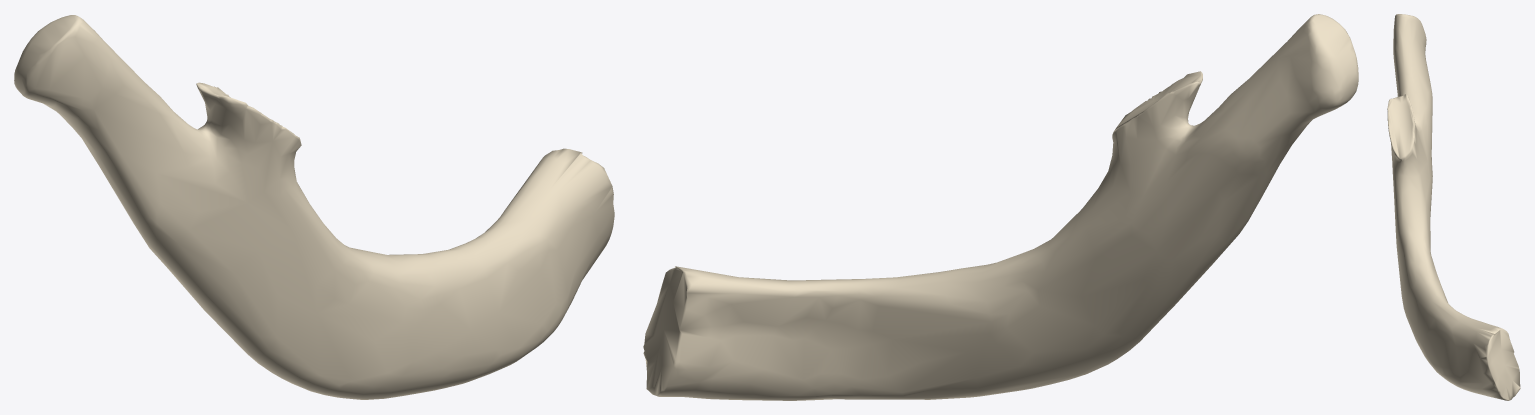
Rendered from costal-cartilage-of-seventh-rib-l.glb.
3 views of the same model, side by side, from view 1: azimuth 30°, elevation 25°; view 2: azimuth 150°, elevation 25°; view 3: azimuth 270°, elevation 25° (orthographic). The views are drawn at different scales.
Visible parts, largest first — view 1: Costal cartilage of seventh rib.l; view 2: Costal cartilage of seventh rib.l; view 3: Costal cartilage of seventh rib.l.
Part boxes in pixels (x1,y1,x2,y2): Costal cartilage of seventh rib.l: (14,15,614,399); Costal cartilage of seventh rib.l: (643,14,1358,400); Costal cartilage of seventh rib.l: (1387,14,1520,400).
Size of the model in its own units: 0.1082 by 0.0755 by 0.0369.
